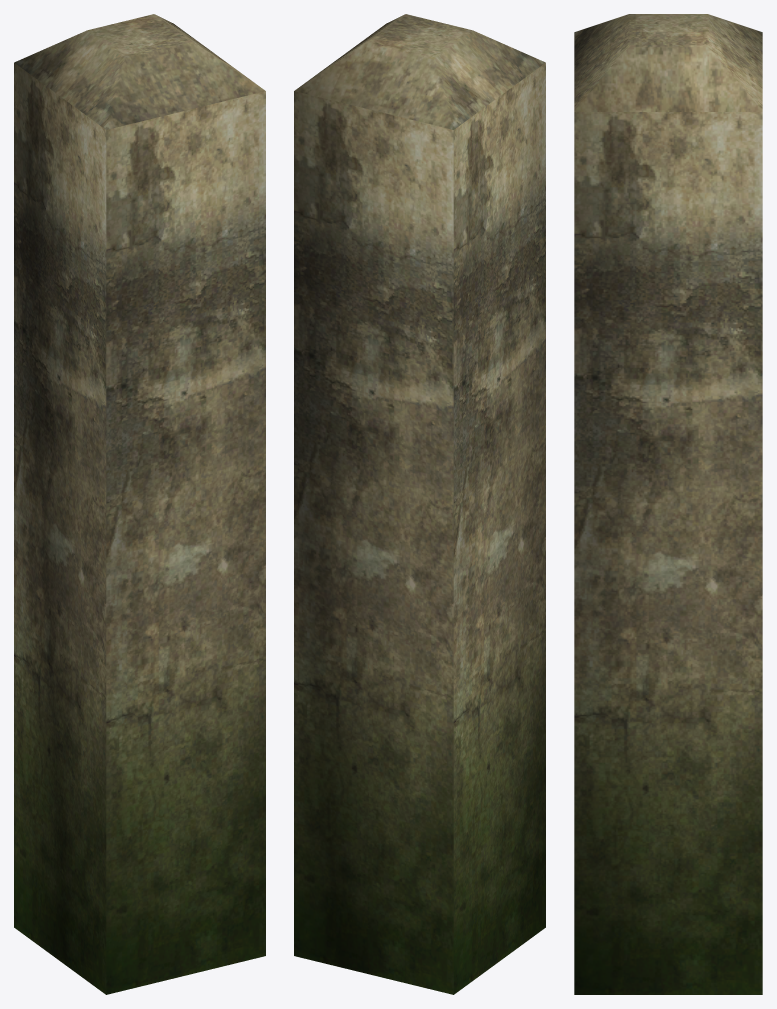
The model's file is floor_post.DAE.
3 renders of one model, left to right at view 1: azimuth 30°, elevation 25°; view 2: azimuth 150°, elevation 25°; view 3: azimuth 270°, elevation 25°, orthographic. The views are drawn at different scales.
Parts seen in each view (by area): view 1: floor_post; view 2: floor_post; view 3: floor_post.
Part boxes in pixels (x1=…): floor_post: x1=14, y1=14, x2=265, y2=994; floor_post: x1=294, y1=14, x2=545, y2=994; floor_post: x1=574, y1=14, x2=762, y2=994.
Size of the model in its own units: 0.5 by 0.5 by 2.71.
